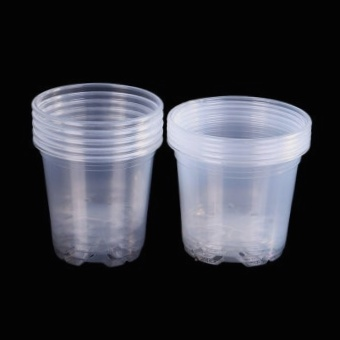plastic: (171, 84, 315, 271), (27, 77, 167, 265)
